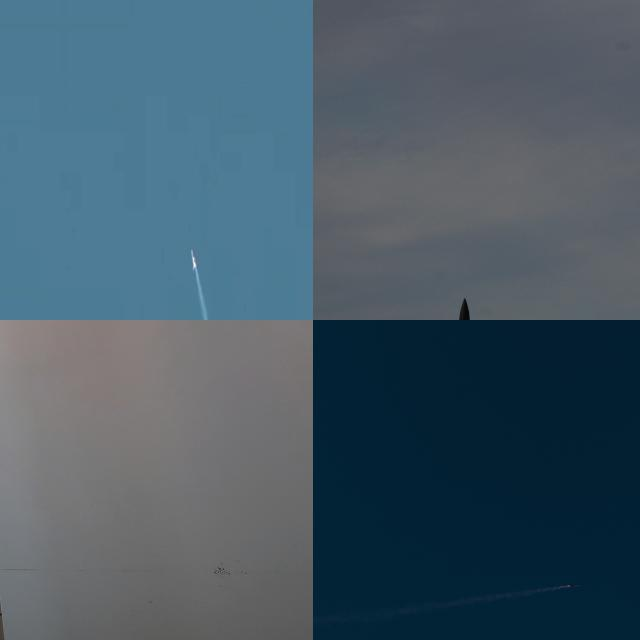Rocket: (443, 296, 476, 320), (192, 251, 197, 269), (566, 583, 582, 587)
